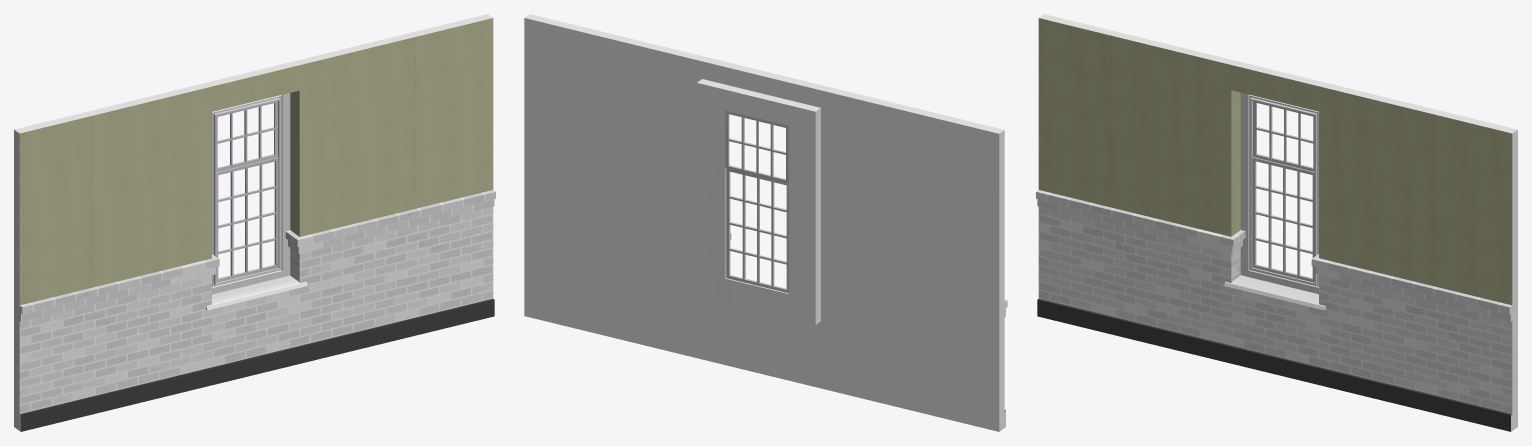
Rendered from SM_Buildings_WallWindow_5x3_01.fbx.
3 views of the same model, side by side, from view 1: azimuth 30°, elevation 25°; view 2: azimuth 150°, elevation 25°; view 3: azimuth 330°, elevation 25° (orthographic).
Visible parts, largest first — view 1: SM_Buildings_WallWindow_5x3_01; view 2: SM_Buildings_WallWindow_5x3_01; view 3: SM_Buildings_WallWindow_5x3_01.
Boxes of the visible parts, x1,y1,x2,y2 form: SM_Buildings_WallWindow_5x3_01: [14, 14, 495, 431]; SM_Buildings_WallWindow_5x3_01: [524, 14, 1007, 431]; SM_Buildings_WallWindow_5x3_01: [1036, 14, 1517, 431].
Bounding box in the file's own units: 500 × 300 × 24.64.
1 material, 1 textured.
